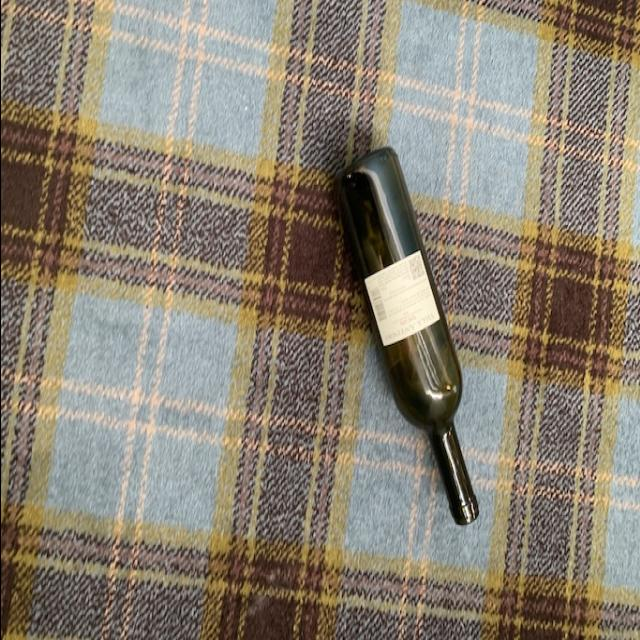Glass Bottle: (330, 135, 480, 536)
